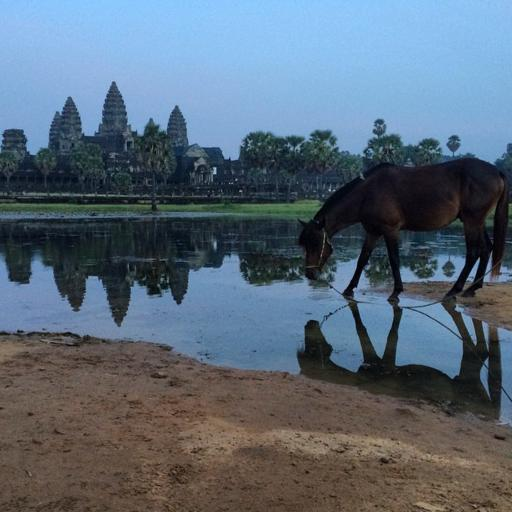horse: (294, 155, 512, 300)
